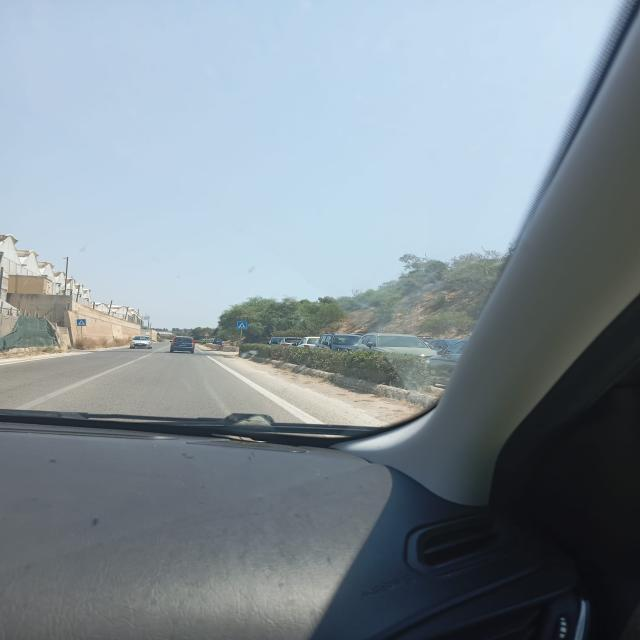info_crosswalk: (236, 320, 248, 330), (77, 319, 87, 327)
